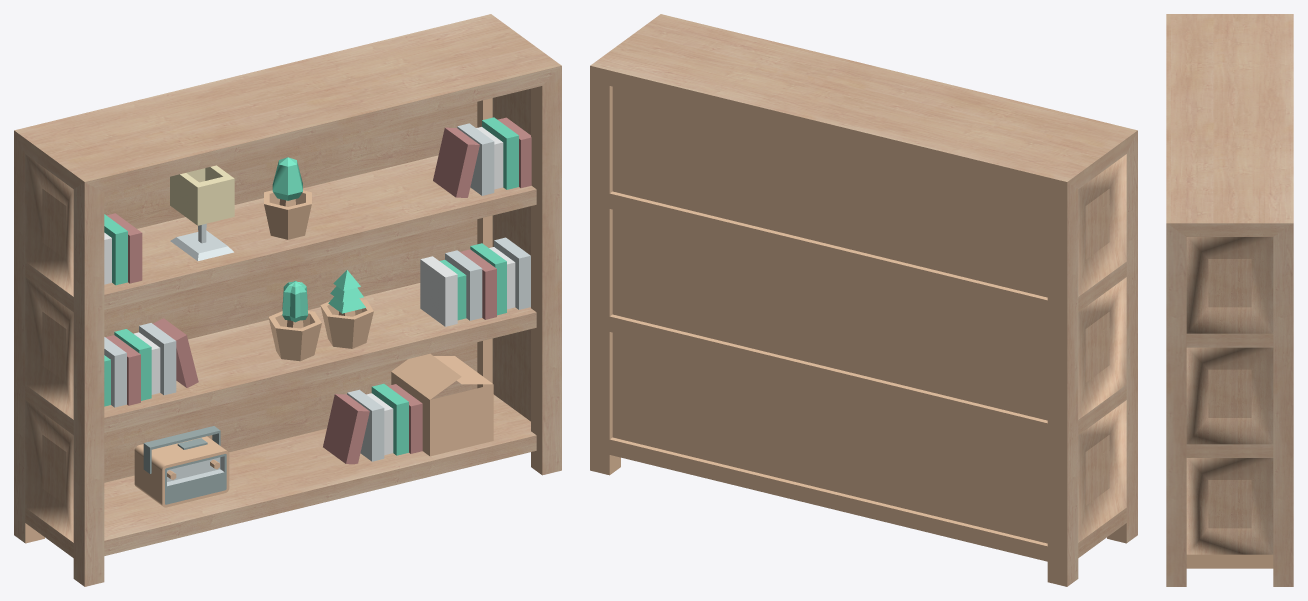
Rendered from libreria-texture.glb.
3 renders of one model, left to right at view 1: azimuth 30°, elevation 25°; view 2: azimuth 150°, elevation 25°; view 3: azimuth 270°, elevation 25°, orthographic. The views are drawn at different scales.
Visible parts, largest first — view 1: bookcaseClosedWide, books, cardboardBoxClosed, radio, lampSquareTable, plantSmall2, plantSmall3, plantSmall1; view 2: bookcaseClosedWide; view 3: bookcaseClosedWide.
Boxes of the visible parts, x1,y1,x2,y2 form: bookcaseClosedWide: (14,14,561,586); books: (104,117,531,464); cardboardBoxClosed: (391,353,493,456); radio: (134,426,229,507); lampSquareTable: (170,165,234,260); plantSmall2: (268,281,321,361); plantSmall3: (264,157,311,239); plantSmall1: (320,270,373,348); bookcaseClosedWide: (590,14,1137,586); bookcaseClosedWide: (1166,14,1293,586).
Size of the model in its own units: 0.9741 by 0.79 by 0.25.
Materials: 18 (1 with a texture image).
